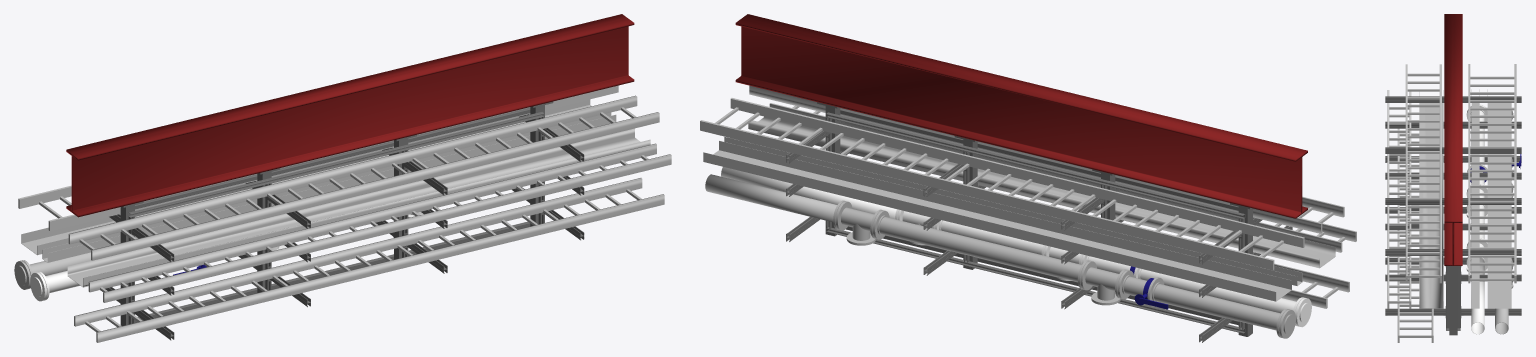
Rendered from Type_5&6.glb.
3 renders of one model, left to right at view 1: azimuth 30°, elevation 25°; view 2: azimuth 150°, elevation 25°; view 3: azimuth 270°, elevation 25°, orthographic. The views are drawn at different scales.
Parts seen in each view (by area): view 1: Cube, Untitled.527, Untitled.579, Untitled.576, Untitled.575, Untitled.581, Untitled.479, Untitled.573, Untitled.601, Untitled.605, Untitled.603, Untitled.547; view 2: Cube, Untitled.479, Untitled.573, Untitled.575, Untitled.547, Untitled.581, Untitled.527, Untitled.553, Untitled.576, Untitled.605, Cylinder.021, Untitled.601 (+6 smaller); view 3: Untitled.479, Cube, Untitled.527, Untitled.573, Untitled.575, Untitled.576, Untitled.579, Untitled.581, Untitled.365, Cylinder.020, Untitled.521, Untitled.553 (+24 smaller).
Boxes of the visible parts, x1,y1,x2,y2 form: Cube: (66, 14, 634, 217); Untitled.527: (68, 95, 659, 260); Untitled.579: (74, 178, 664, 342); Untitled.576: (88, 143, 671, 302); Untitled.575: (67, 128, 650, 287); Untitled.581: (42, 112, 616, 262); Untitled.479: (18, 85, 618, 230); Untitled.573: (21, 99, 591, 255); Untitled.601: (128, 112, 544, 217); Untitled.605: (135, 107, 530, 209); Untitled.603: (135, 221, 530, 322); Untitled.547: (30, 252, 91, 275); Cube: (735, 14, 1307, 218); Untitled.479: (700, 98, 1304, 270); Untitled.573: (703, 140, 1291, 301); Untitled.575: (748, 116, 1335, 268); Untitled.547: (879, 217, 1280, 330); Untitled.581: (724, 136, 1302, 285); Untitled.527: (749, 85, 1344, 233); Untitled.553: (941, 220, 1296, 313); Untitled.576: (769, 103, 1356, 252); Untitled.605: (826, 112, 1245, 219); Cylinder.021: (705, 174, 837, 222); Untitled.601: (840, 108, 1238, 210); Untitled.479: (1468, 64, 1516, 283); Cube: (1444, 14, 1462, 265); Untitled.527: (1405, 64, 1441, 283); Untitled.573: (1487, 89, 1511, 308); Untitled.575: (1419, 90, 1443, 308); Untitled.576: (1387, 90, 1411, 308); Untitled.579: (1397, 128, 1433, 342); Untitled.581: (1471, 89, 1479, 308); Untitled.365: (1449, 266, 1457, 335); Cylinder.020: (1471, 257, 1484, 334); Untitled.521: (1385, 306, 1446, 317); Untitled.553: (1471, 110, 1484, 238).
Size of the model in its own units: 6.32 by 2.01 by 1.7.
